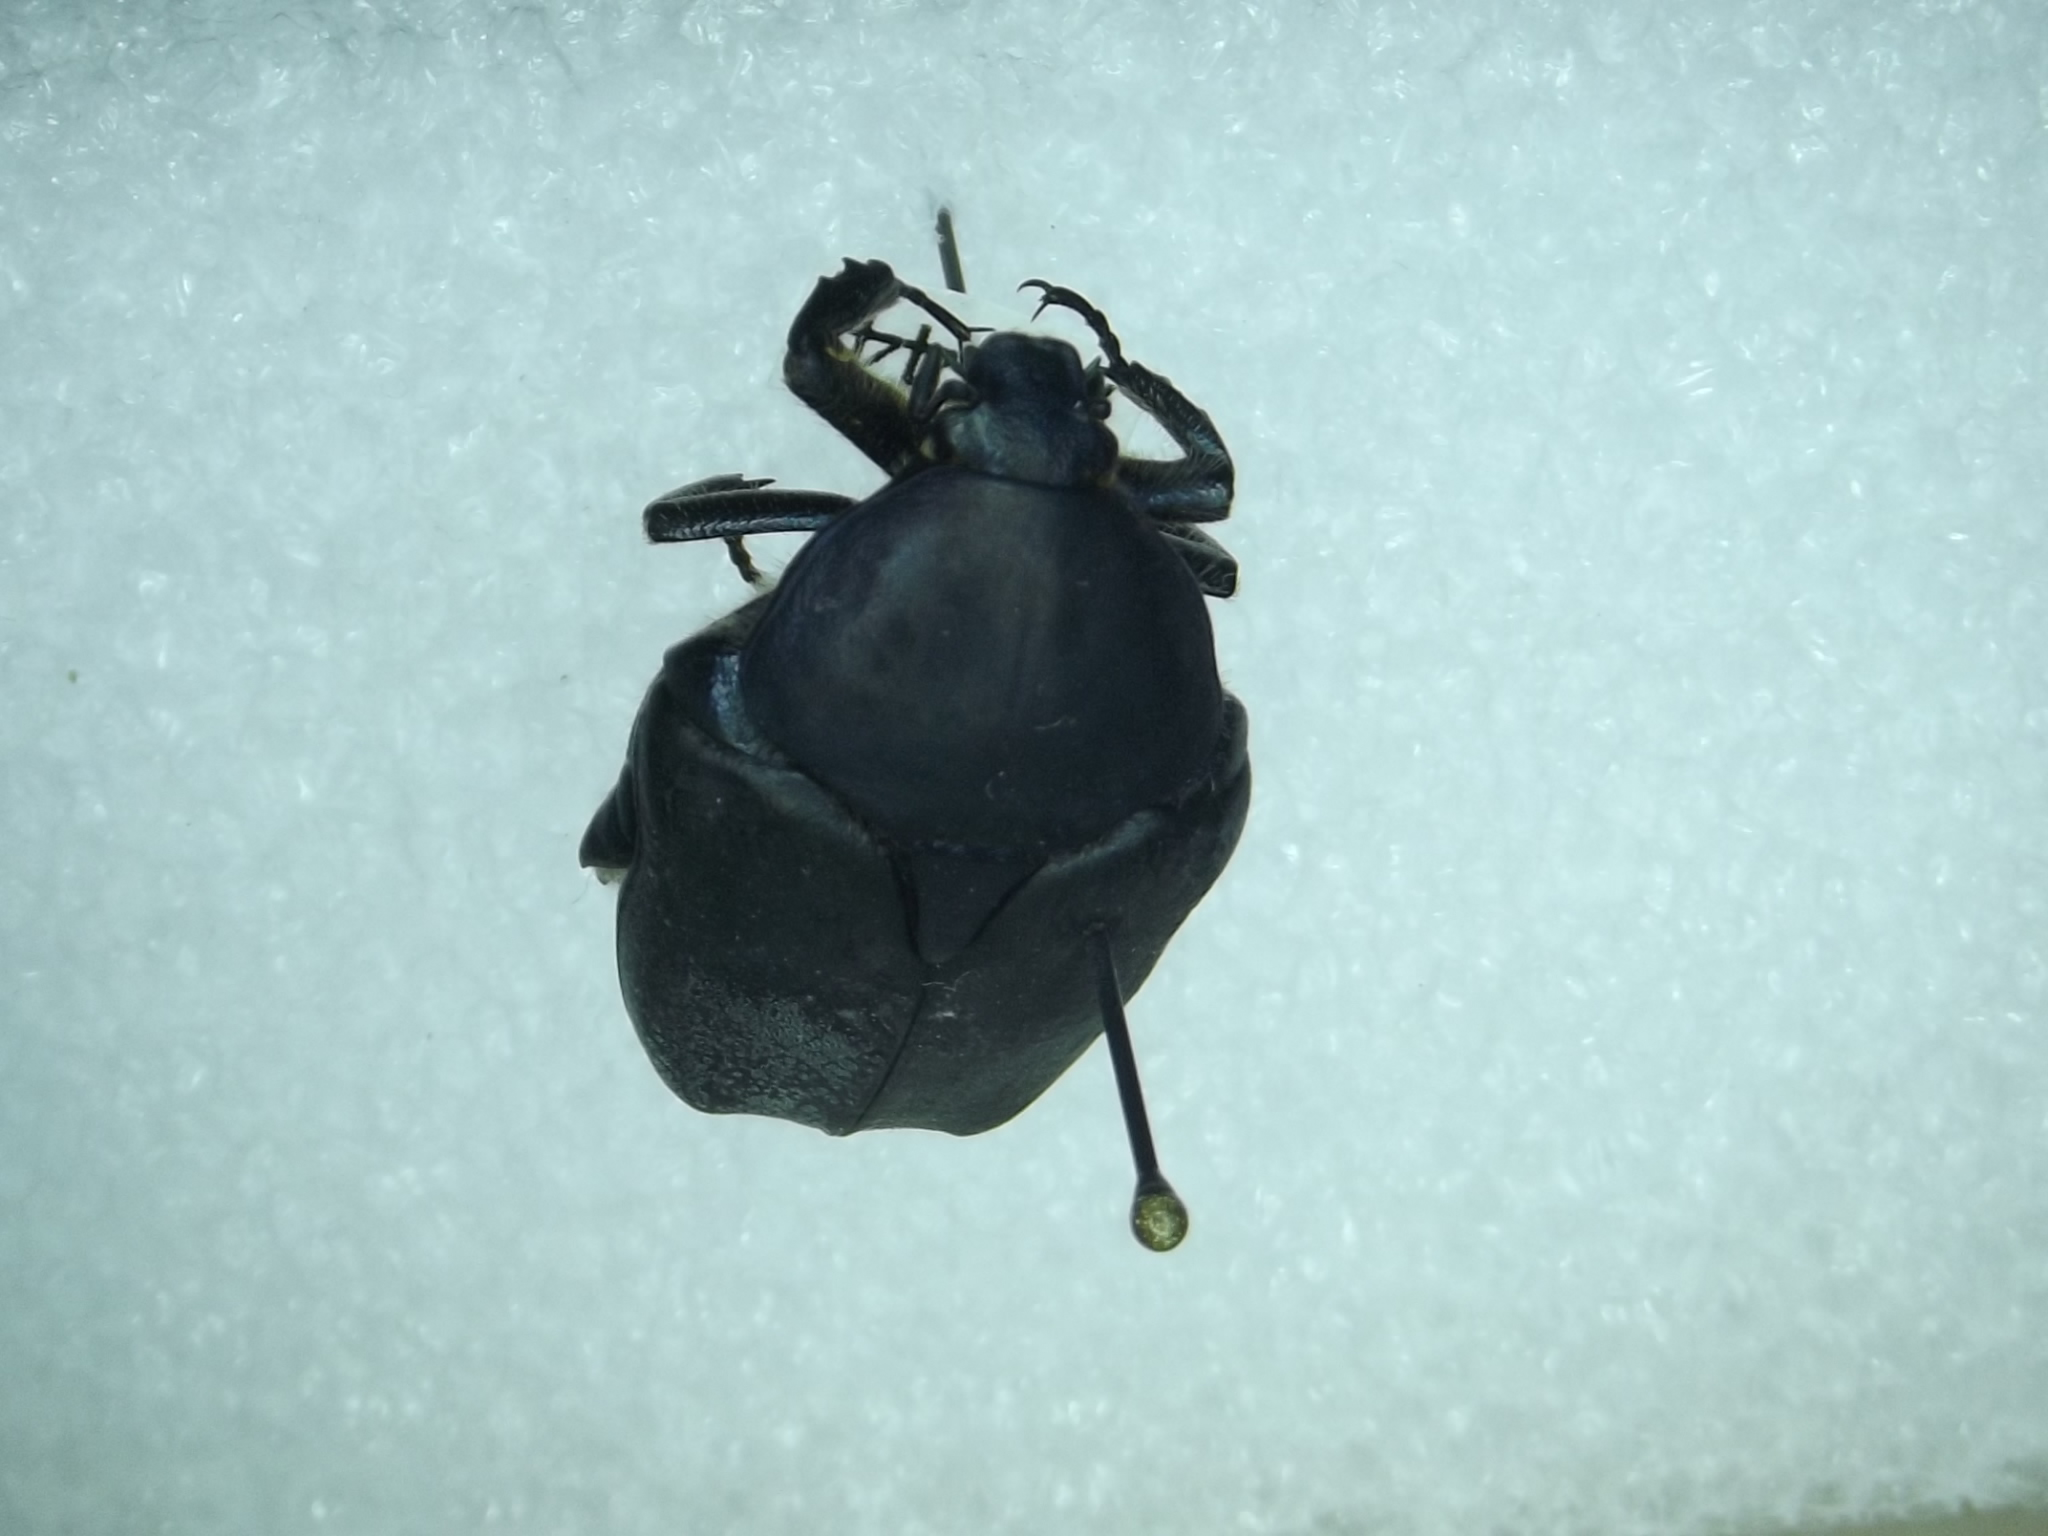Protaetia_afflicta: (572, 227, 1272, 1160)
